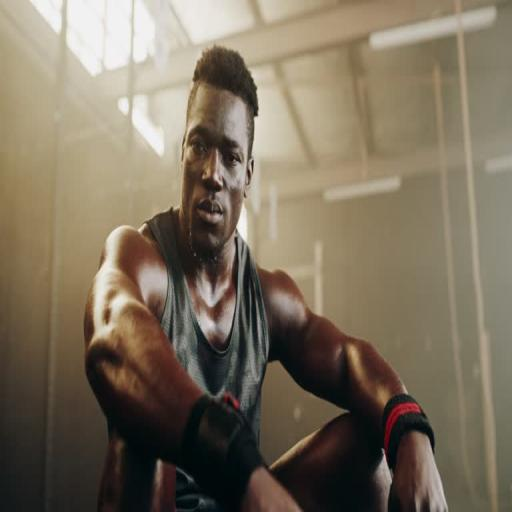Person: (68, 136, 498, 409)
no_gloves: (374, 328, 451, 403), (230, 356, 306, 400)
no_goggle: (181, 174, 248, 219)
no_helmet: (182, 133, 270, 213)
none: (111, 233, 303, 396)
